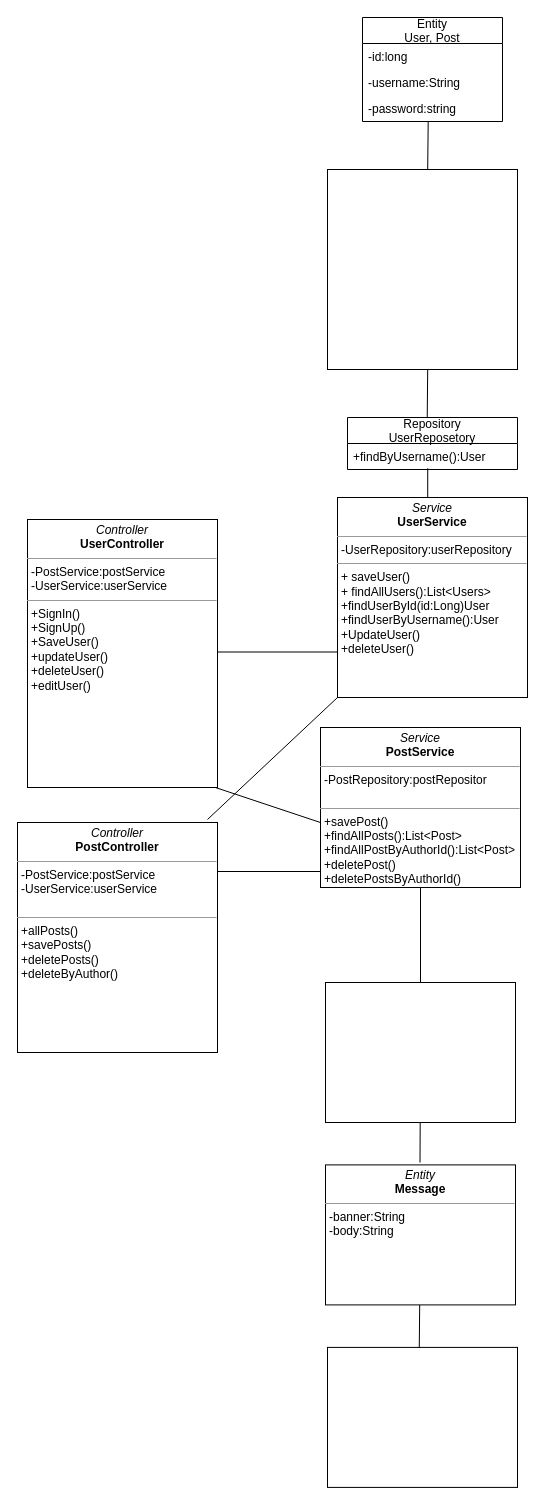
This 545x1505 diagram has some shape labels left out. Each missing label, with the centre of its shape:
Entity Person -adress:String -email:String -lastname:String -firstname:String: (422,269)
Entity Post -id:long -author:User: (422,1416)
Repository PostRepository +findByAuthorId():List<Post> +deleteAllByAuthorId(): (420,1052)
